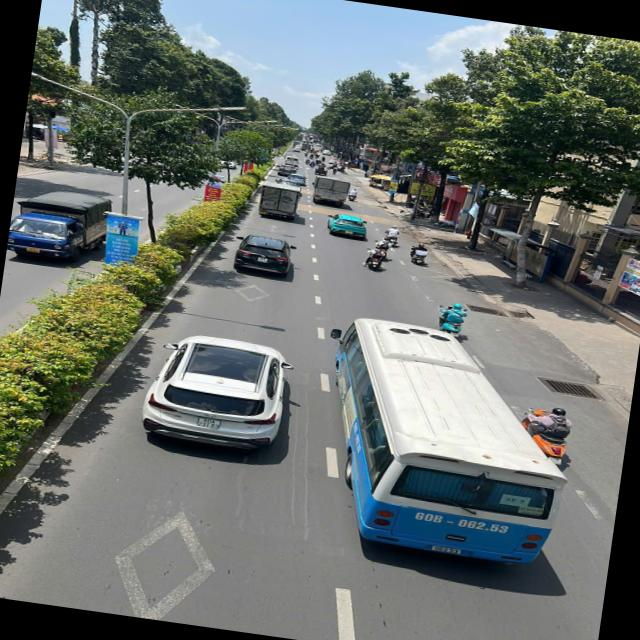Bus: (335, 319, 566, 563)
Truck: (12, 182, 112, 266), (258, 181, 301, 222), (310, 175, 352, 210), (301, 144, 312, 152)
car: (147, 329, 294, 464), (233, 232, 296, 278), (326, 212, 372, 240), (275, 177, 304, 191), (286, 172, 309, 185), (278, 164, 298, 176), (281, 156, 300, 166), (329, 158, 340, 166), (321, 150, 332, 156), (292, 147, 302, 152)
motobyte: (525, 402, 577, 466), (432, 300, 464, 336), (406, 244, 426, 264), (366, 248, 381, 270), (385, 228, 401, 246), (380, 240, 390, 259), (350, 188, 360, 204), (308, 153, 314, 159), (332, 168, 337, 175), (310, 162, 315, 168), (306, 160, 311, 166), (322, 156, 327, 162), (318, 160, 322, 167), (304, 152, 308, 158), (315, 154, 318, 159)
non-motorized vehicle: (314, 166, 328, 177)
